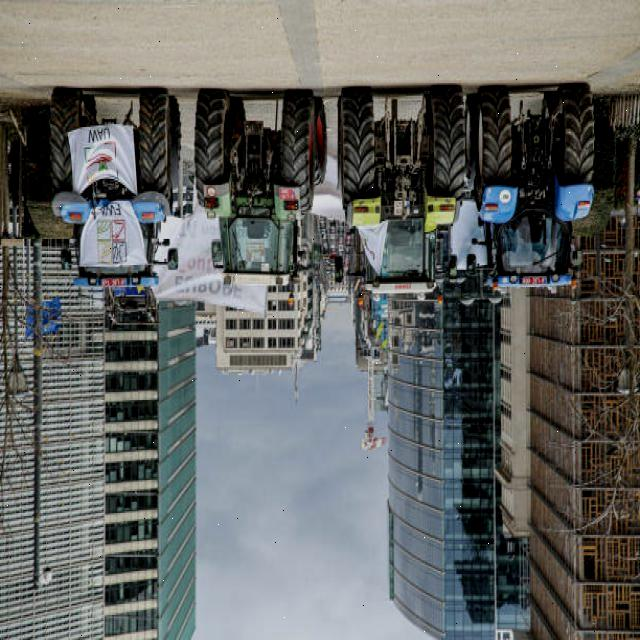Tratores - v5 YOLO V8L 2024-11-13: (46, 80, 182, 296), (334, 81, 466, 300), (191, 80, 328, 290), (471, 83, 597, 298)
